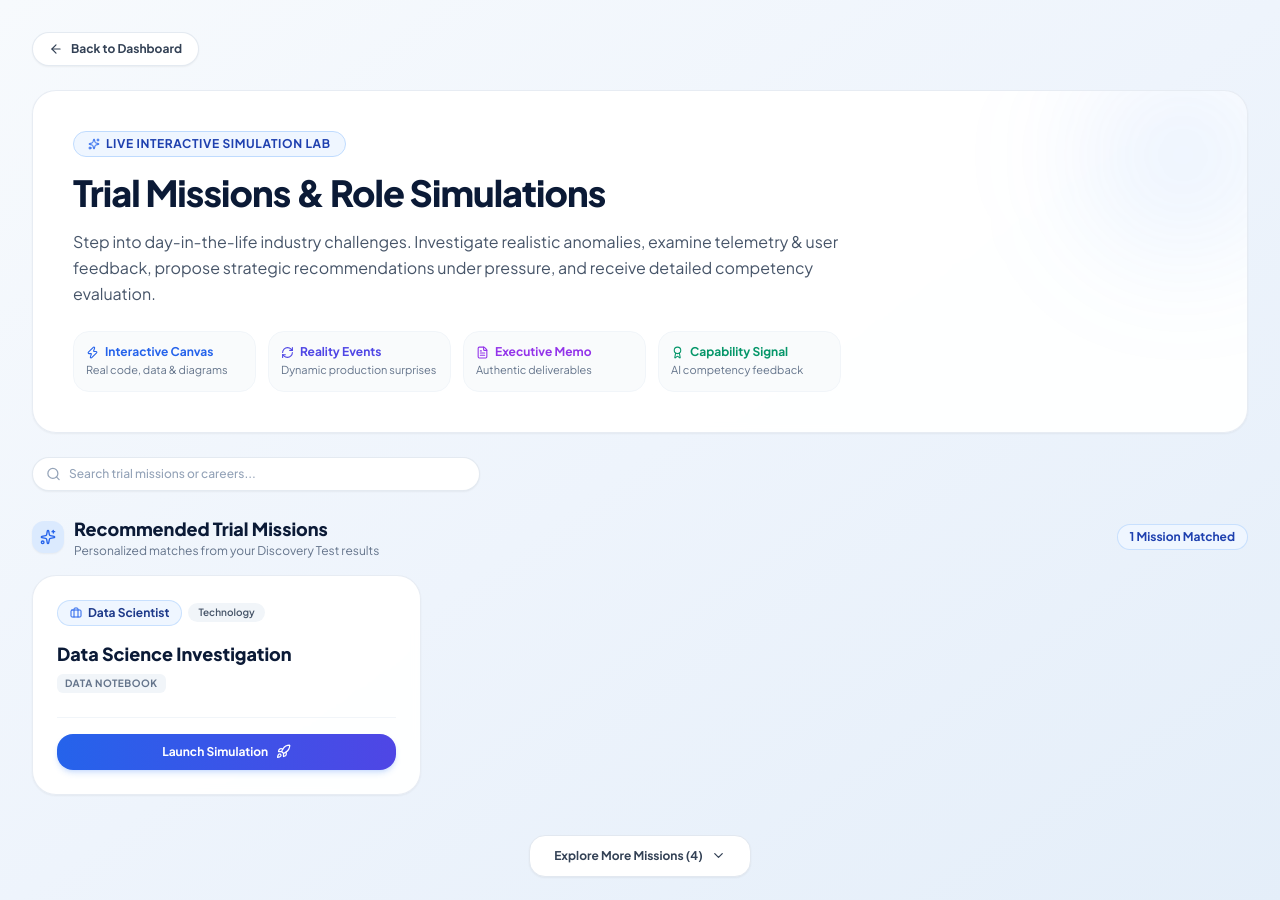
Discovery Recommended Missions, Explore More & Dynamic Sector Filter › 4. Explore More reveals remaining active missions without duplicating recommended missions
Expected: the heading "Recommended Trial Missions" is shown, x1=74 y1=516 x2=328 y2=540
Click the button "Explore More Missions (4)".
click(640, 856)  # box x1=529 y1=834 x2=751 y2=876
(page scrolled)
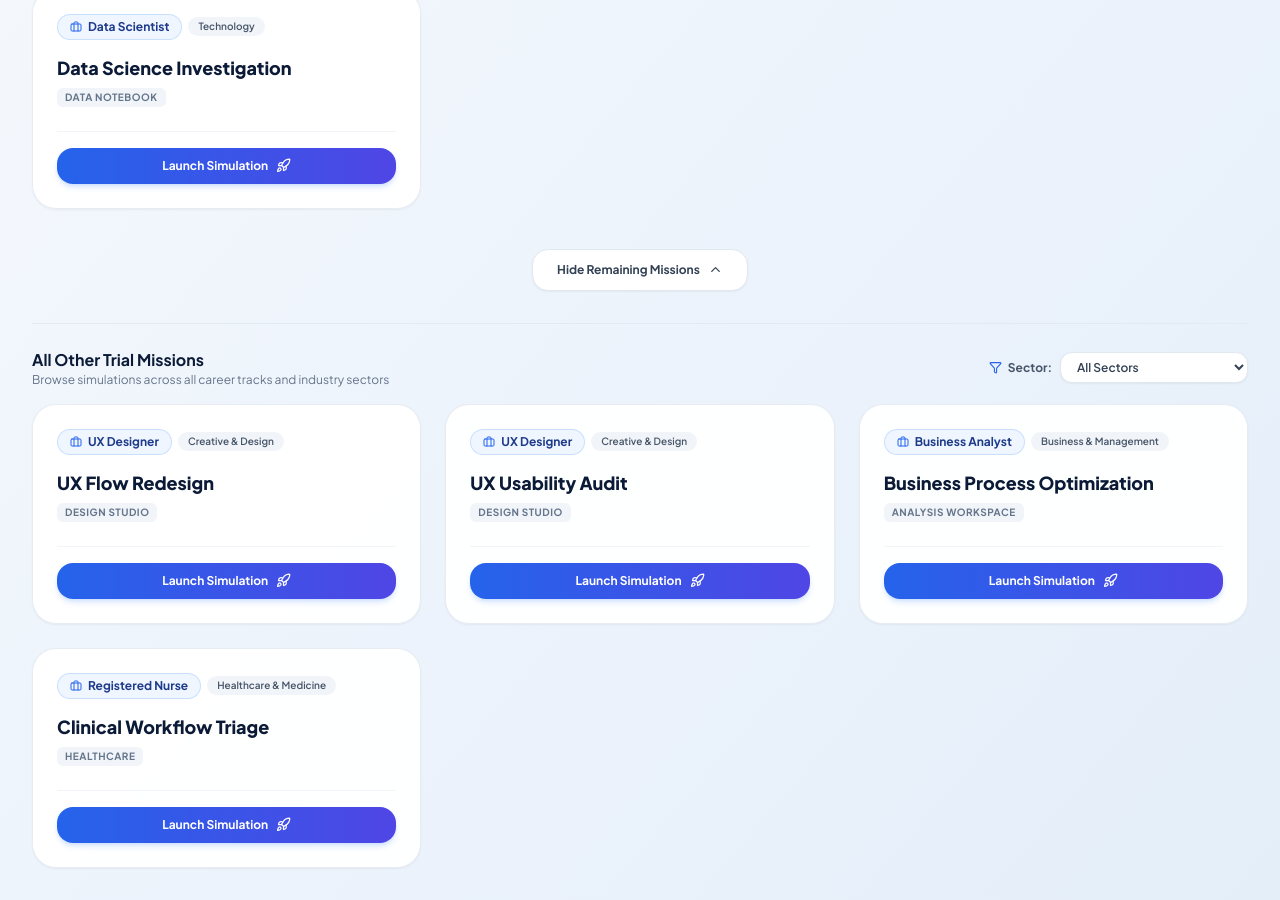
Result: the heading "All Other Trial Missions" is shown at x1=32 y1=348 x2=204 y2=370
Result: the heading "Business Process Optimization" is shown at x1=884 y1=470 x2=1154 y2=494
Result: the heading "Clinical Workflow Triage" is shown at x1=57 y1=714 x2=269 y2=738
